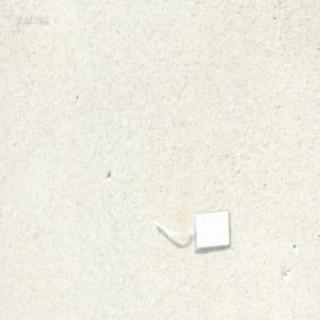LuggageTagtrack_idkeyframe: (152, 206, 230, 252)
